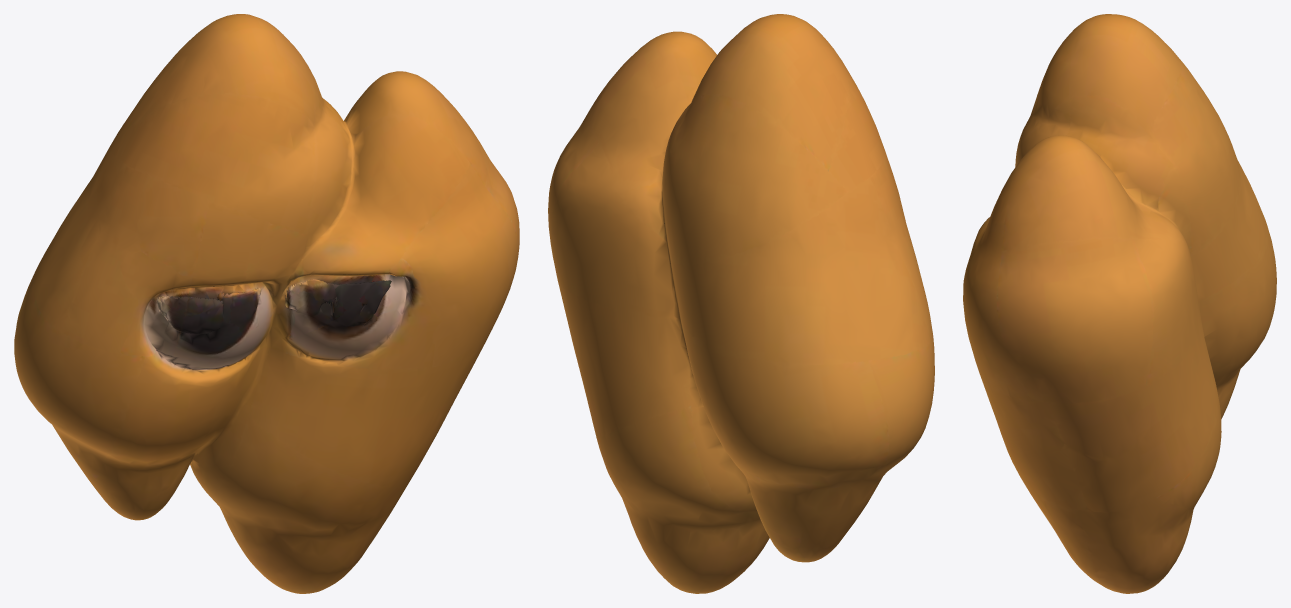
The model's file is peanut.glb.
3 renders of one model, left to right at view 1: azimuth 30°, elevation 25°; view 2: azimuth 150°, elevation 25°; view 3: azimuth 270°, elevation 25°, orthographic. The views are drawn at different scales.
Visible parts, largest first — view 1: tripo_node_a8f07abd-a1bf-49d5-87e2-69cb609da9e8; view 2: tripo_node_a8f07abd-a1bf-49d5-87e2-69cb609da9e8; view 3: tripo_node_a8f07abd-a1bf-49d5-87e2-69cb609da9e8.
Part boxes in pixels (x1,y1,x2,y2): tripo_node_a8f07abd-a1bf-49d5-87e2-69cb609da9e8: (14, 14, 519, 593); tripo_node_a8f07abd-a1bf-49d5-87e2-69cb609da9e8: (548, 14, 934, 593); tripo_node_a8f07abd-a1bf-49d5-87e2-69cb609da9e8: (963, 14, 1276, 593).
Bounding box in the file's own units: 0.7378 × 0.9994 × 0.526.
1 material, 1 textured.
